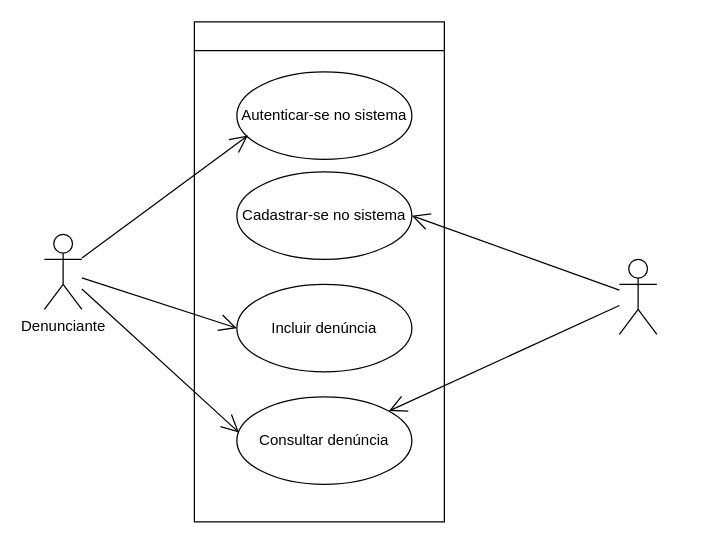
Some shapes in this 714 by 544 pixel diagram are drawn without their labels. Here are the shapes that lost their labels. From the top down, the centre of each, then its label:
At [318,271]: "Aplição de denúncias".
At [637,296]: "Usuário Externo".
